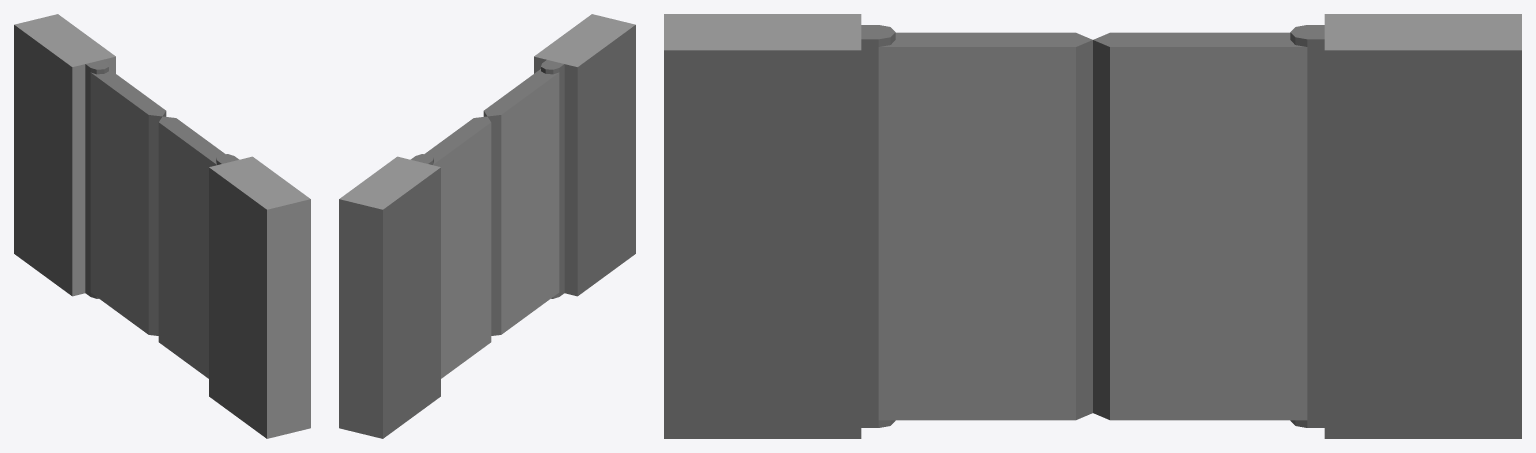
File: doorFree.fbx
3 renders of one model, left to right at view 1: azimuth 30°, elevation 25°; view 2: azimuth 150°, elevation 25°; view 3: azimuth 270°, elevation 25°, orthographic. The views are drawn at different scales.
Parts seen in each view (by area): view 1: doorFree_frameA, doorFree_panel.R, doorFree_panel.L, doorFree_frameB; view 2: doorFree_frameA, doorFree_panel.L, doorFree_panel.R, doorFree_frameB; view 3: doorFree_frameA, doorFree_panel.R, doorFree_panel.L, doorFree_frameB.
Part boxes in pixels (<box>): doorFree_frameA: <box>14,14,310,438</box>; doorFree_panel.R: <box>90,69,166,335</box>; doorFree_panel.L: <box>158,116,225,378</box>; doorFree_frameB: <box>85,60,239,298</box>; doorFree_frameA: <box>339,14,635,438</box>; doorFree_panel.L: <box>483,69,559,335</box>; doorFree_panel.R: <box>424,116,491,378</box>; doorFree_frameB: <box>410,60,564,298</box>; doorFree_frameA: <box>664,14,1521,438</box>; doorFree_panel.R: <box>1093,32,1307,420</box>; doorFree_panel.L: <box>878,32,1092,420</box>; doorFree_frameB: <box>861,25,1324,427</box>.
Size of the model in its own units: 100 by 500 by 1000.
